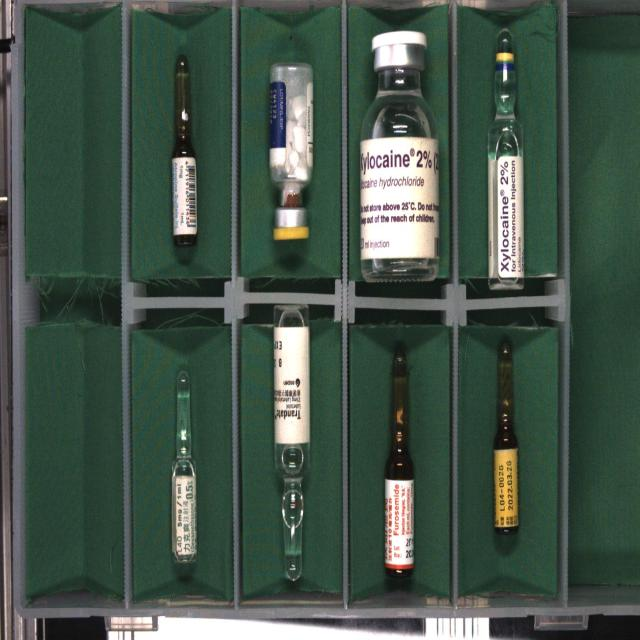Vials: (360, 30, 439, 282), (270, 63, 313, 241)
